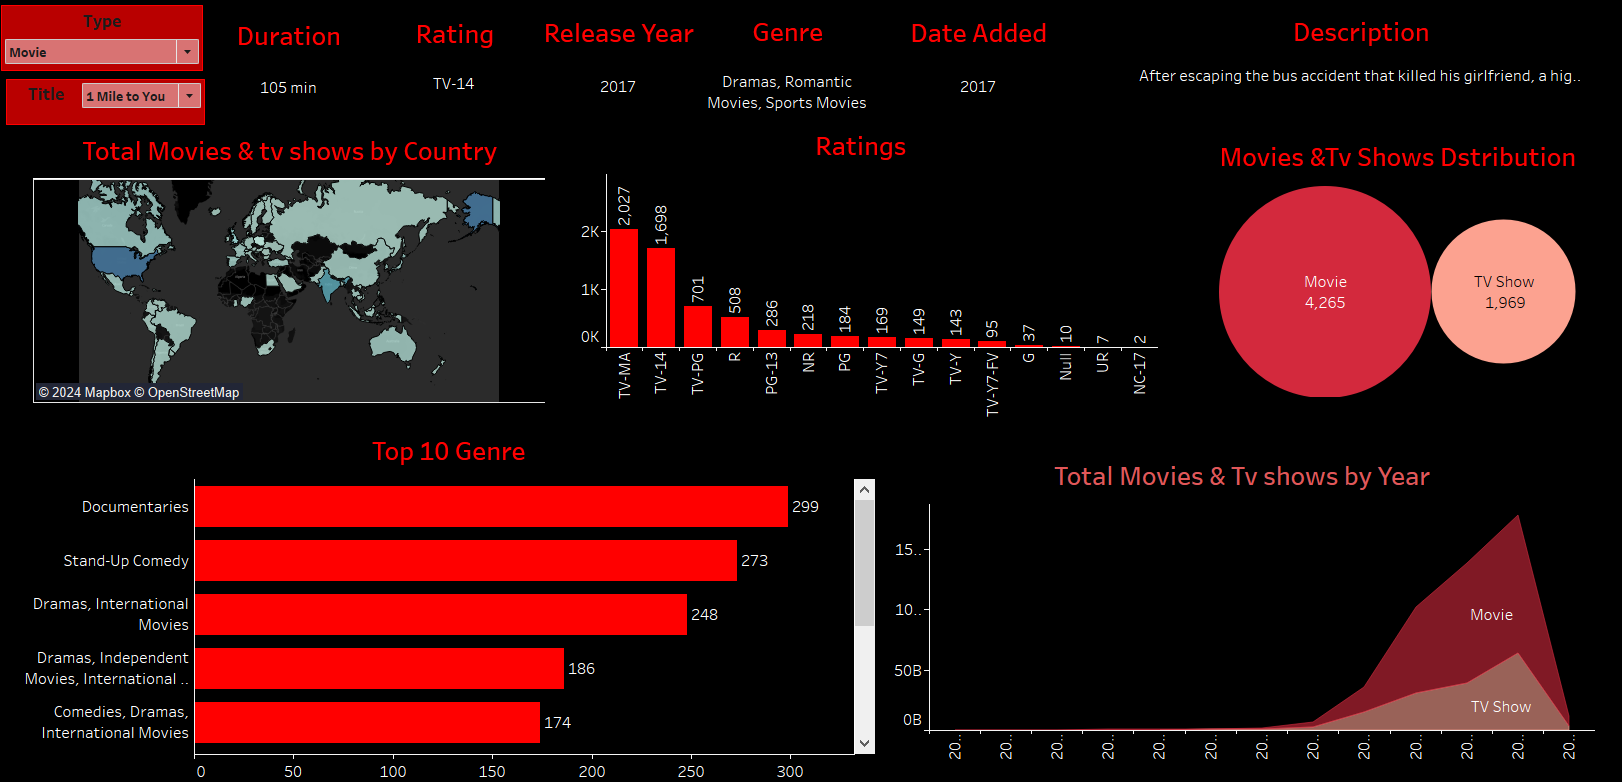

The dashboard page shown, as its layout file describes it:
{"tool":"tableau","page":{"name":"Netflix","canvas":[1000,1000],"units":"permille","ordinal":0},"visuals":[{"type":"filter","title":"Duration","param":"[federated.1feh2kk0coken31ddzqt20sflquu].[none:type:nk]","box":[0.6,6.3,123.2,83.4]},{"type":"worksheet","title":"Genre","mark":"Automatic","box":[428.8,12.6,104.6,144.1]},{"type":"worksheet","title":"Description","mark":"Automatic","box":[691.3,12.6,279.9,102.4]},{"type":"worksheet","title":"Release Year","mark":"Automatic","box":[327.3,13.9,100.8,127.7]},{"type":"worksheet","title":"Date Added","mark":"Automatic","box":[550.7,13.9,93.7,128.9]},{"type":"worksheet","title":"rating","mark":"Automatic","box":[242,15.2,71.2,117.6]},{"type":"worksheet","title":"Duration","mark":"Automatic","box":[130.9,17.7,91.1,123.9]},{"type":"filter","title":"Duration","param":"[federated.1feh2kk0coken31ddzqt20sflquu].[none:title:nk]","box":[3.9,99.9,121.3,58.1]},{"type":"worksheet","title":"Ratings","mark":"Automatic","rows":["show_id"],"cols":["rating"],"box":[344,156.8,363.3,383.1]},{"type":"worksheet","title":"Total Movies and tv shows by country","mark":"Multipolygon","box":[19.9,163.1,313.2,346.4]},{"type":"worksheet","title":"Movies &Tv Shows Dstribution","mark":"Circle","box":[734.9,170.7,237.5,331.2]},{"type":"worksheet","title":"Top 10 genre","mark":"Automatic","rows":["listed_in"],"cols":["show_id"],"box":[13.4,542.4,521.1,446.3]},{"type":"worksheet","title":"Total Movies & Tv shows by Year","mark":"Area","rows":["show_id"],"cols":["date_added"],"box":[543,574,431.3,388.1]}]}

Visuals, with their boxes on the dashboard's canvas, which has no fixed pixel size, in thousandths of its width and height (x1, y1, x2, y2). These are canvas units, not pixel positions in the 1622x782 screenshot, which may show the page scaled, cropped or inside an application window:
"Duration" filter: {"left": 1, "top": 6, "right": 124, "bottom": 90}
"Genre" worksheet: {"left": 429, "top": 13, "right": 533, "bottom": 157}
"Description" worksheet: {"left": 691, "top": 13, "right": 971, "bottom": 115}
"Release Year" worksheet: {"left": 327, "top": 14, "right": 428, "bottom": 142}
"Date Added" worksheet: {"left": 551, "top": 14, "right": 644, "bottom": 143}
"rating" worksheet: {"left": 242, "top": 15, "right": 313, "bottom": 133}
"Duration" worksheet: {"left": 131, "top": 18, "right": 222, "bottom": 142}
"Duration" filter: {"left": 4, "top": 100, "right": 125, "bottom": 158}
"Ratings" worksheet: {"left": 344, "top": 157, "right": 707, "bottom": 540}
"Total Movies and tv shows by country" worksheet (Multipolygon marks): {"left": 20, "top": 163, "right": 333, "bottom": 510}
"Movies &Tv Shows Dstribution" worksheet (Circle marks): {"left": 735, "top": 171, "right": 972, "bottom": 502}
"Top 10 genre" worksheet: {"left": 13, "top": 542, "right": 534, "bottom": 989}
"Total Movies & Tv shows by Year" worksheet (Area marks): {"left": 543, "top": 574, "right": 974, "bottom": 962}
